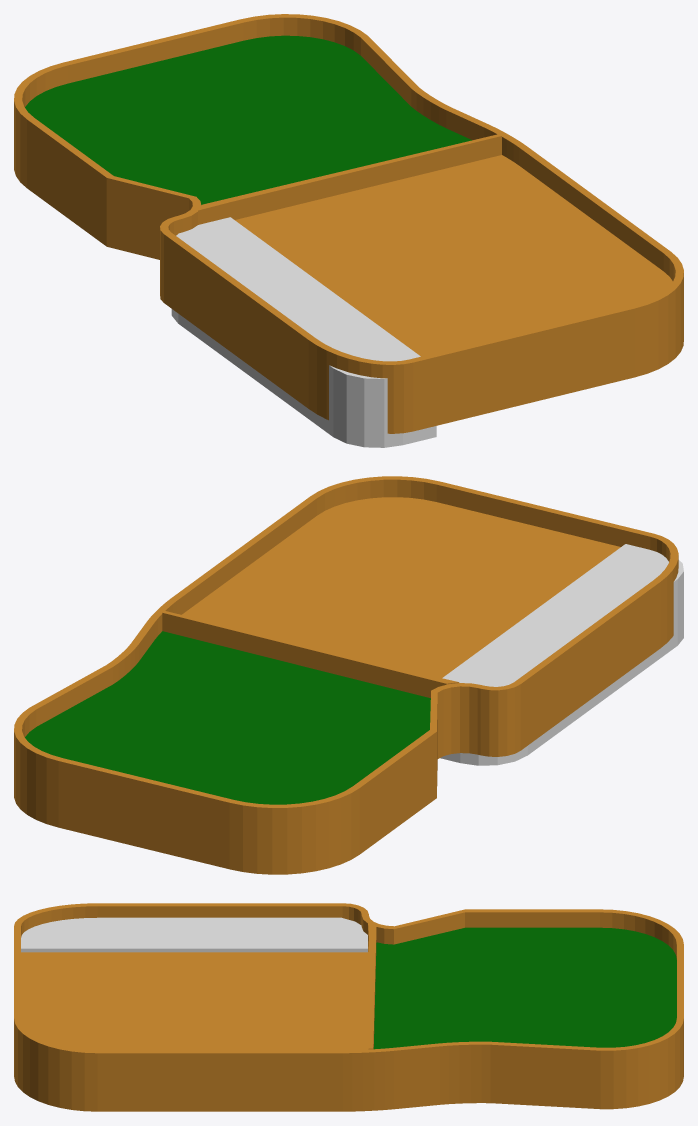
Rendered from body.fbx.
The picture shows the model from 3 angles, top to bottom: view 1: azimuth 30°, elevation 25°; view 2: azimuth 150°, elevation 25°; view 3: azimuth 270°, elevation 25°; orthographic projection. The views are drawn at different scales.
Parts seen in each view (by area): view 1: Cube, Cube.002; view 2: Cube, Cube.002; view 3: Cube, Cube.002.
Boxes of the visible parts, box(x1,y1,x2,y2) form: Cube: box(14, 14, 683, 433); Cube.002: box(171, 217, 436, 447); Cube: box(14, 476, 678, 874); Cube.002: box(440, 544, 683, 765); Cube: box(14, 903, 683, 1111); Cube.002: box(21, 917, 367, 952).
Bounding box in the file's own units: 1100 × 242 × 2077.
